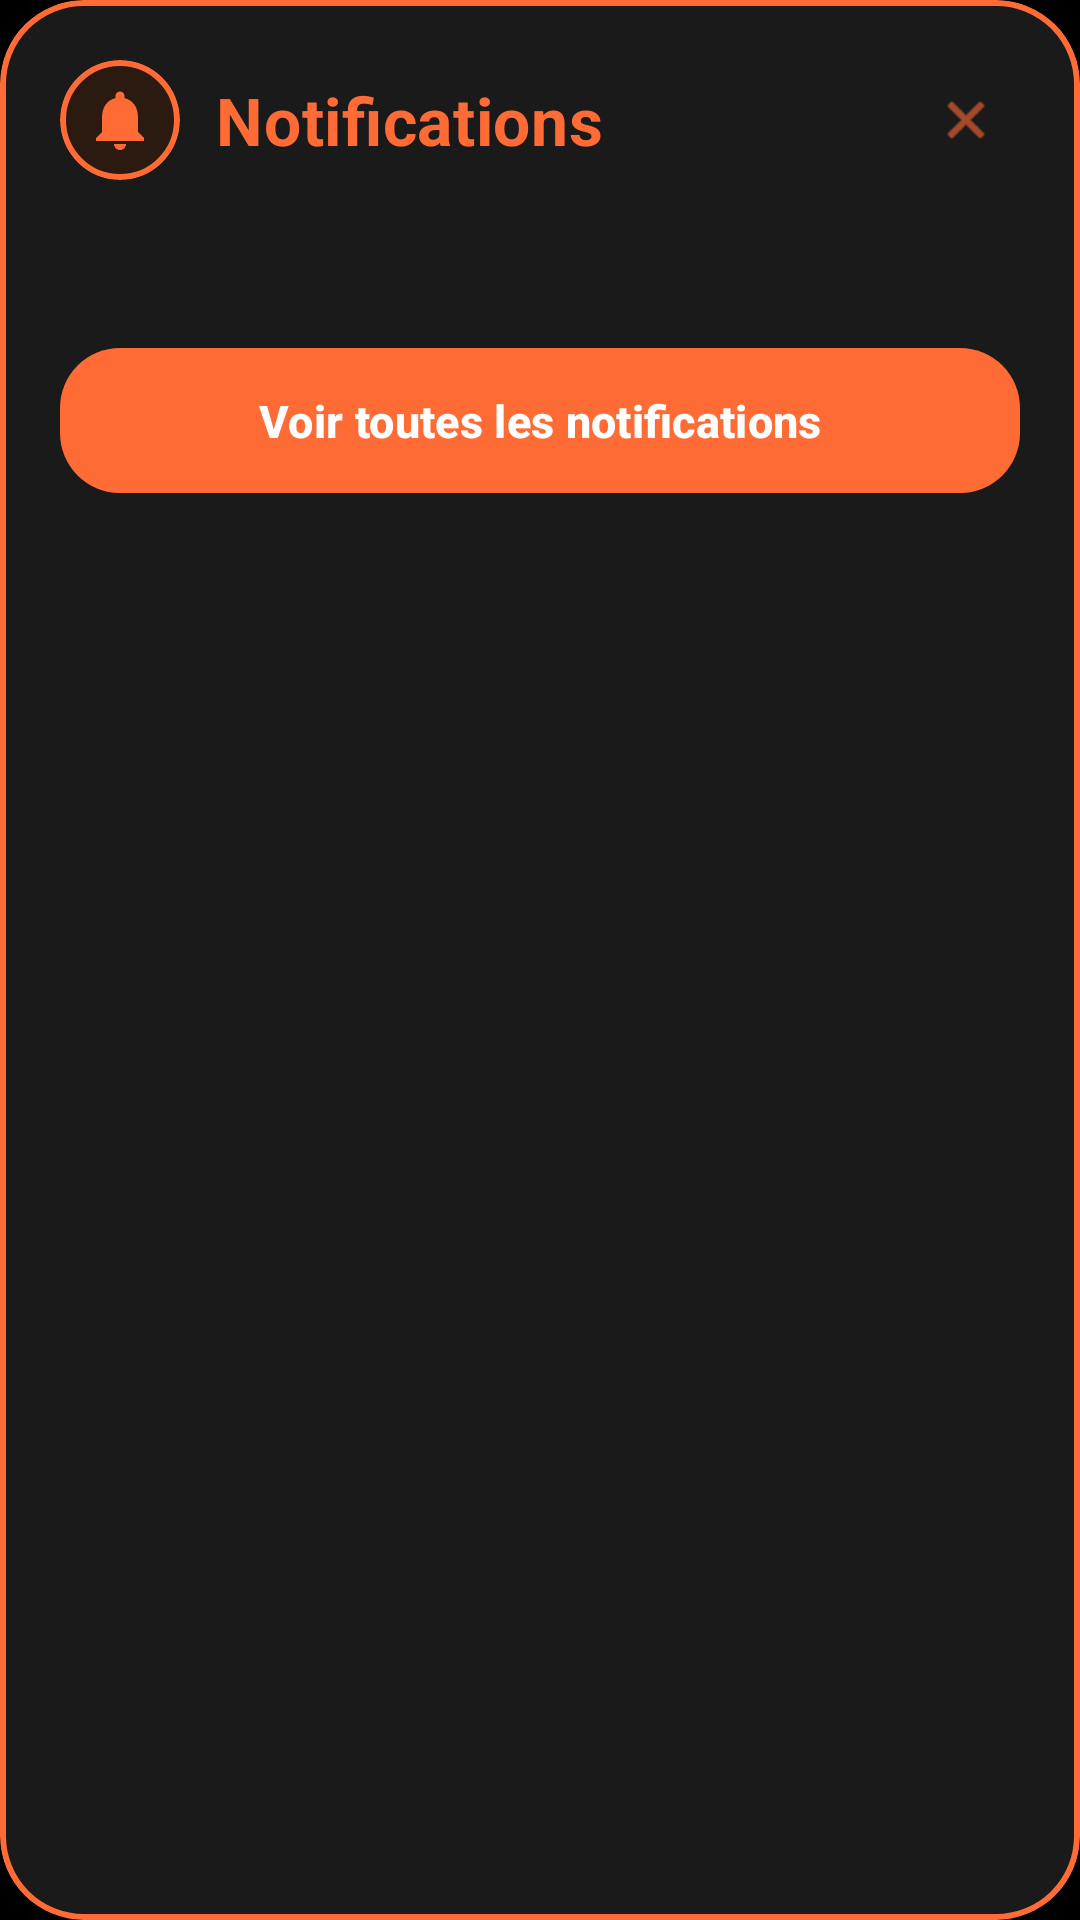

Icon click points for this 1080×1920 phone screenshot, format point (x, y):
close clear cancel: point (966, 120)
